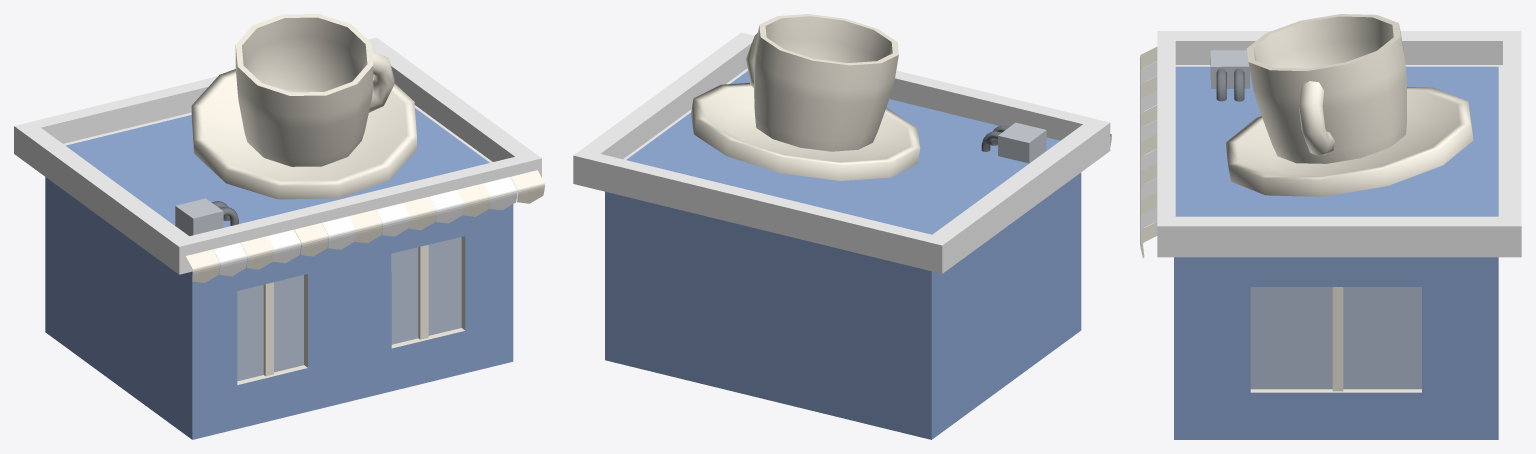
The model's file is cafefinal.fbx.
3 renders of one model, left to right at view 1: azimuth 30°, elevation 25°; view 2: azimuth 150°, elevation 25°; view 3: azimuth 270°, elevation 25°, orthographic. The views are drawn at different scales.
Parts seen in each view (by area): view 1: polySurface384; view 2: polySurface384; view 3: polySurface384.
Boxes of the visible parts, box(x1,y1,x2,y2) form: polySurface384: box(14, 14, 544, 439); polySurface384: box(573, 14, 1111, 439); polySurface384: box(1140, 14, 1521, 439).
Bounding box in the file's own units: 3.49 × 2.79 × 2.88.
